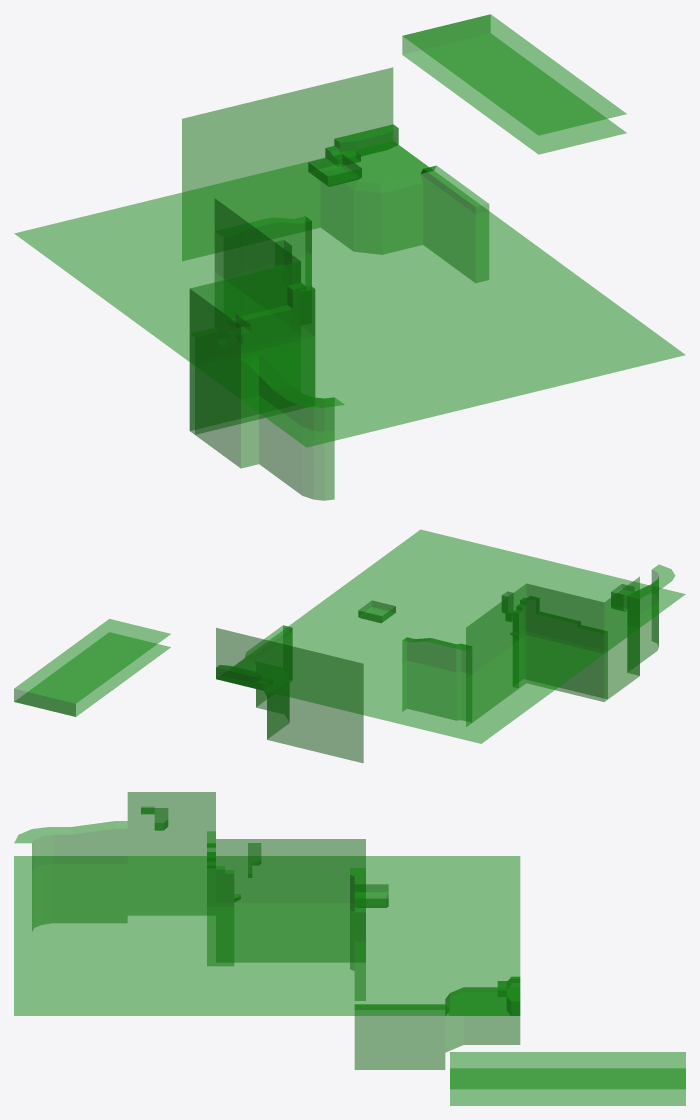
File: hit_C.obj
3 views of the same model, one above another, from view 1: azimuth 30°, elevation 25°; view 2: azimuth 150°, elevation 25°; view 3: azimuth 270°, elevation 25° (orthographic). The views are drawn at different scales.
Bounding box in the file's own units: 252 × 60 × 296.
